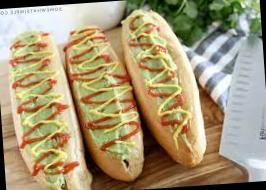Completos: (3, 21, 95, 190), (64, 16, 156, 184), (122, 5, 210, 170)
